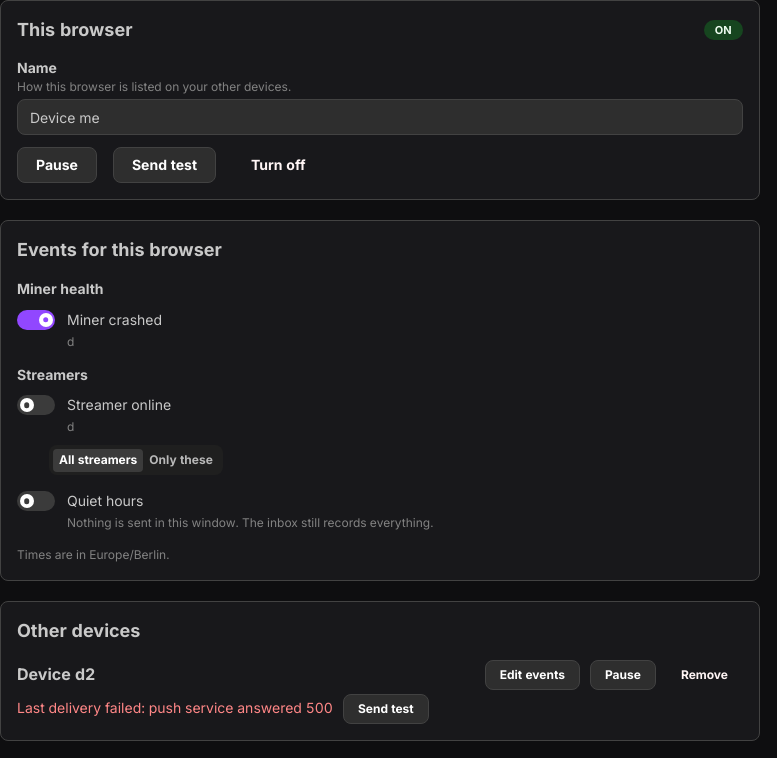
other devices are listed with their state, and can be removed
Expected: the text "Last delivery failed: push service answered 500" is shown, [17,698,333,719]
Click the button "Remove".
click(704, 675)  # box [666,660,743,690]
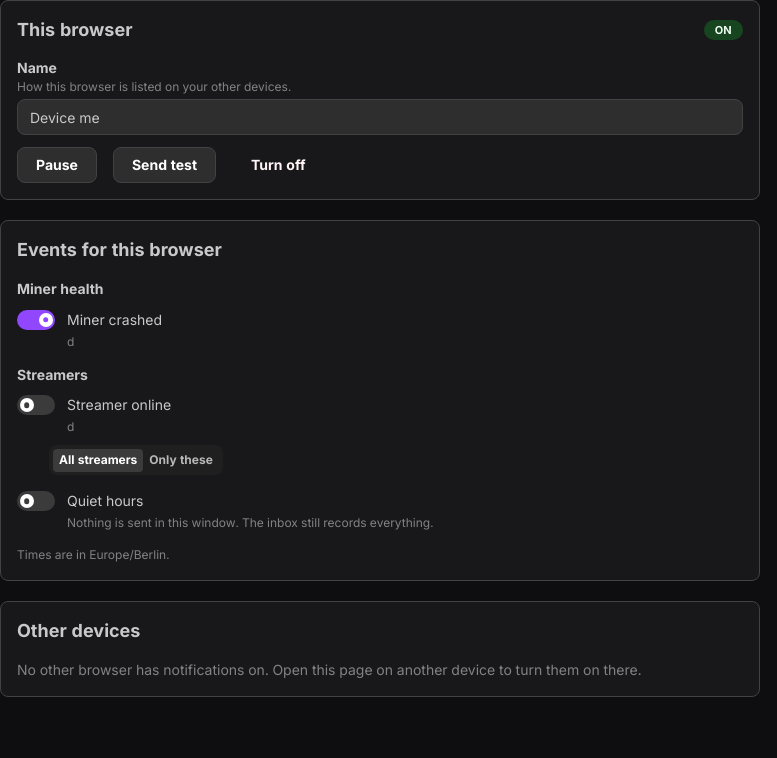
Expected: the element with test id "destination-d2" is gone
